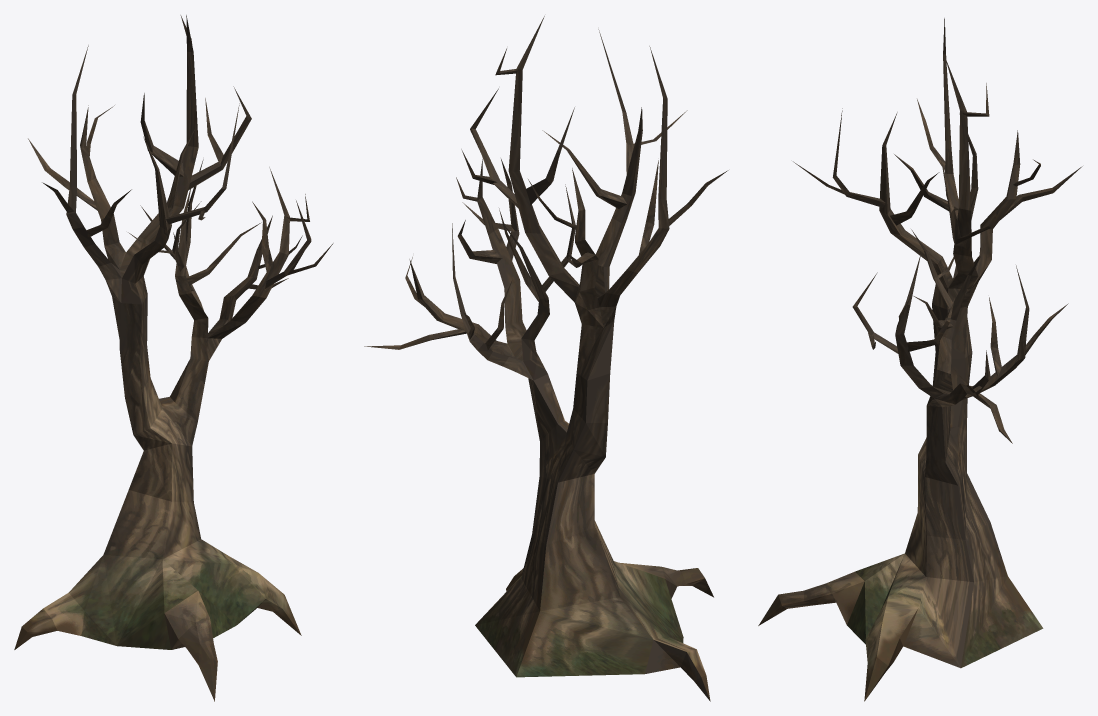
The model's file is plants_tall_tree_trunks04.fbx.
3 views of the same model, side by side, from view 1: azimuth 30°, elevation 25°; view 2: azimuth 150°, elevation 25°; view 3: azimuth 270°, elevation 25° (orthographic). The views are drawn at different scales.
Visible parts, largest first — view 1: obj0.141; view 2: obj0.141; view 3: obj0.141.
Boxes of the visible parts, <box> form: obj0.141: <box>14,15,333,701</box>; obj0.141: <box>364,16,728,701</box>; obj0.141: <box>758,18,1082,701</box>.
Size of the model in its own units: 4.52 by 8.74 by 4.24.
